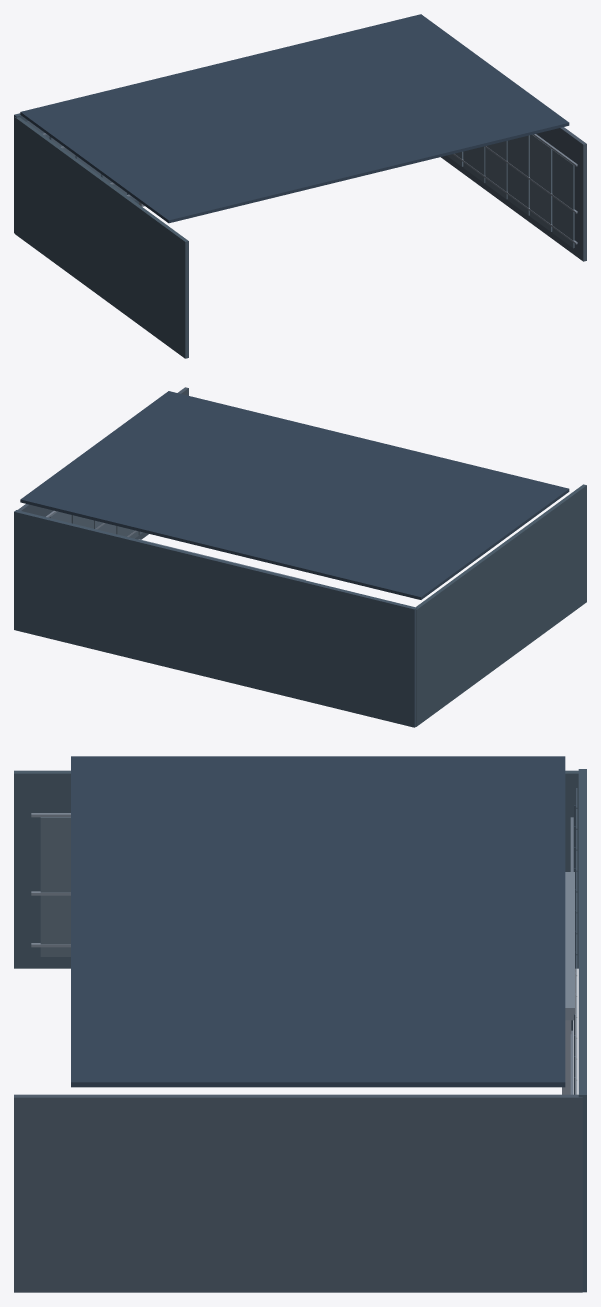
File: hangar-shell.glb
3 views of the same model, one above another, from view 1: azimuth 30°, elevation 25°; view 2: azimuth 150°, elevation 25°; view 3: azimuth 270°, elevation 25° (orthographic). The views are drawn at different scales.
Parts seen in each view (by area): view 1: 003_ceiling, 001_left_wall, 002_right_wall, 076_side_panel, 075_side_panel, 074_side_panel, 073_side_panel, 072_side_panel; view 2: 003_ceiling, 000_back_wall, 001_left_wall; view 3: 003_ceiling, 002_right_wall, 001_left_wall, 066_side_panel, 000_back_wall, 059_gate_header.
Part boxes in pixels (x1,y1,x2,y2): 003_ceiling: (20, 14, 569, 223); 001_left_wall: (14, 117, 188, 358); 002_right_wall: (441, 127, 586, 261); 076_side_panel: (552, 149, 574, 248); 075_side_panel: (530, 135, 552, 231); 074_side_panel: (507, 135, 529, 215); 073_side_panel: (485, 141, 507, 199); 072_side_panel: (463, 146, 485, 182); 003_ceiling: (20, 391, 569, 599); 000_back_wall: (14, 510, 417, 727); 001_left_wall: (416, 484, 586, 726); 003_ceiling: (71, 756, 565, 1087); 002_right_wall: (14, 1094, 582, 1292); 001_left_wall: (14, 770, 578, 968); 066_side_panel: (40, 817, 70, 956); 000_back_wall: (578, 769, 586, 1292); 059_gate_header: (565, 872, 574, 1020).
Size of the model in its own units: 31.28 by 9.36 by 23.17.
